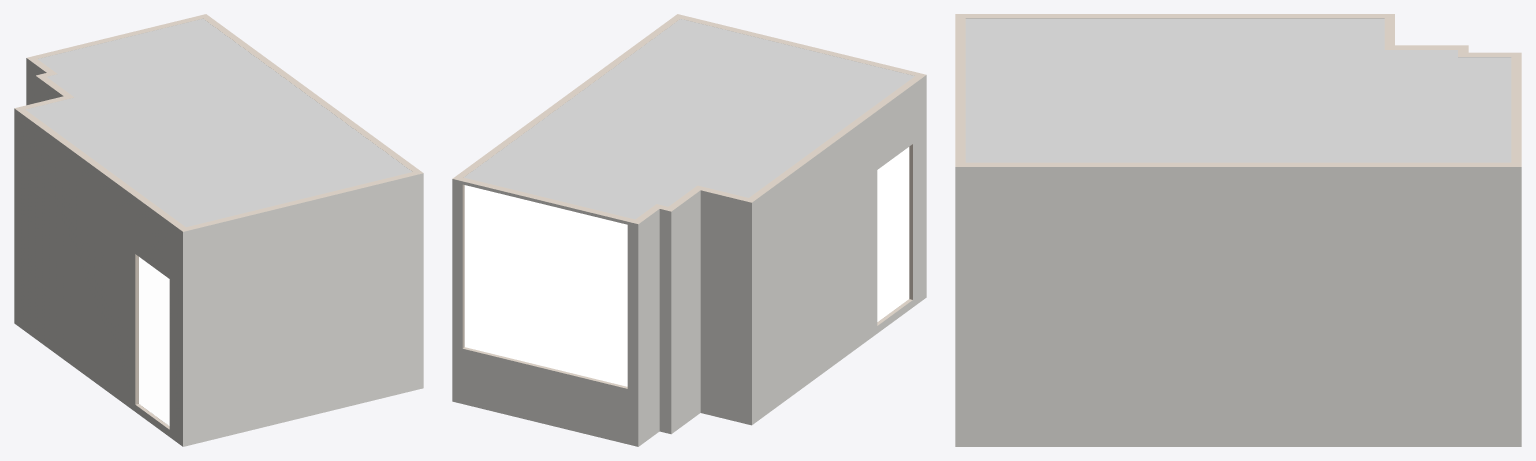
File: Room_223.glb
3 views of the same model, side by side, from view 1: azimuth 30°, elevation 25°; view 2: azimuth 150°, elevation 25°; view 3: azimuth 270°, elevation 25° (orthographic). The views are drawn at different scales.
Visible parts, largest first — view 1: Wall_3, Ceiling_Dining_Room_2, Wall_1, Ceiling_Dining_Room_1, Door_0, Ceiling_Dining_Room_0, Wall_7, Wall_4, Wall_0, Wall_5; view 2: Ceiling_Dining_Room_2, Wall_1, Window_0, Wall_4, Wall_6, Ceiling_Dining_Room_1, Wall_5, Wall_0, Door_0, Wall_2, Ceiling_Dining_Room_0, Wall_7 (+1 smaller); view 3: Wall_7, Ceiling_Dining_Room_2, Ceiling_Dining_Room_1, Ceiling_Dining_Room_0, Wall_1, Wall_3, Wall_4.
Part boxes in pixels (x1,y1,x2,y2): Wall_3: (183,172,423,446); Ceiling_Dining_Room_2: (37,19,411,213); Wall_1: (14,108,185,446); Ceiling_Dining_Room_1: (25,98,231,227); Door_0: (139,257,169,425); Ceiling_Dining_Room_0: (47,75,242,215); Wall_7: (203,14,422,172); Wall_4: (27,14,205,58); Wall_0: (26,58,57,105); Wall_5: (35,75,73,102); Ceiling_Dining_Room_2: (464,19,855,219); Wall_1: (749,75,926,424); Window_0: (464,185,627,386); Wall_4: (452,177,638,446); Wall_6: (698,185,751,425); Ceiling_Dining_Room_1: (701,64,914,197); Wall_5: (668,185,700,433); Wall_0: (635,204,659,446); Door_0: (877,147,909,321); Wall_2: (657,204,671,433); Ceiling_Dining_Room_0: (660,61,867,206); Wall_7: (452,14,680,178); Wall_7: (955,162,1521,446); Ceiling_Dining_Room_2: (965,55,1511,162); Ceiling_Dining_Room_1: (965,18,1384,47); Ceiling_Dining_Room_0: (965,47,1457,54); Wall_1: (956,14,1394,18); Wall_3: (955,14,965,166); Wall_4: (1511,53,1521,166).
Bounding box in the file's own units: 3.47 × 2.96 × 5.43.
Materials: 12 (3 with a texture image).
